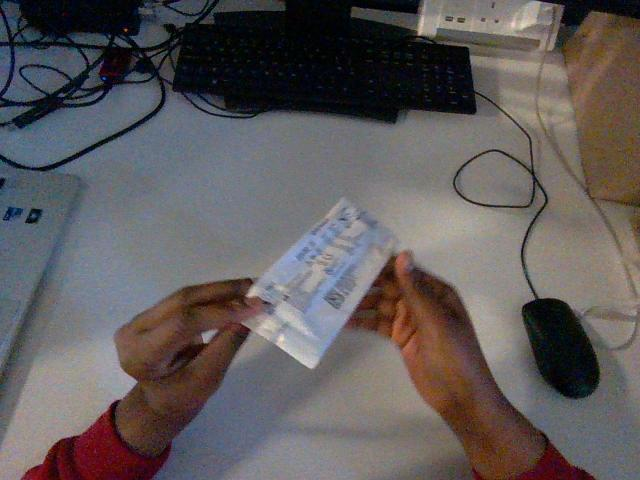syringe: (244, 198, 396, 367)
